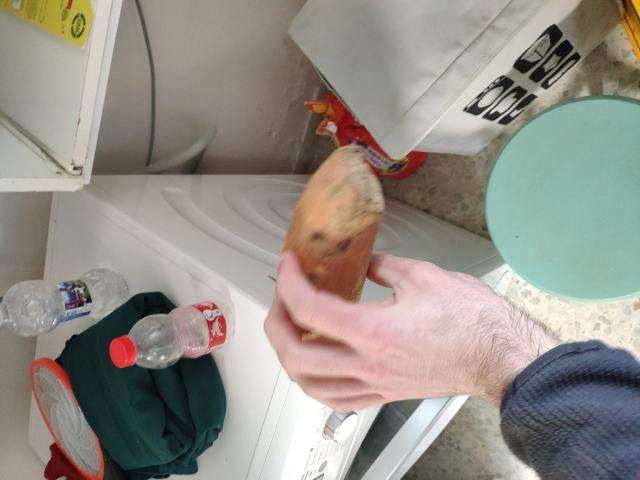sweet_potato: (286, 153, 378, 359)
